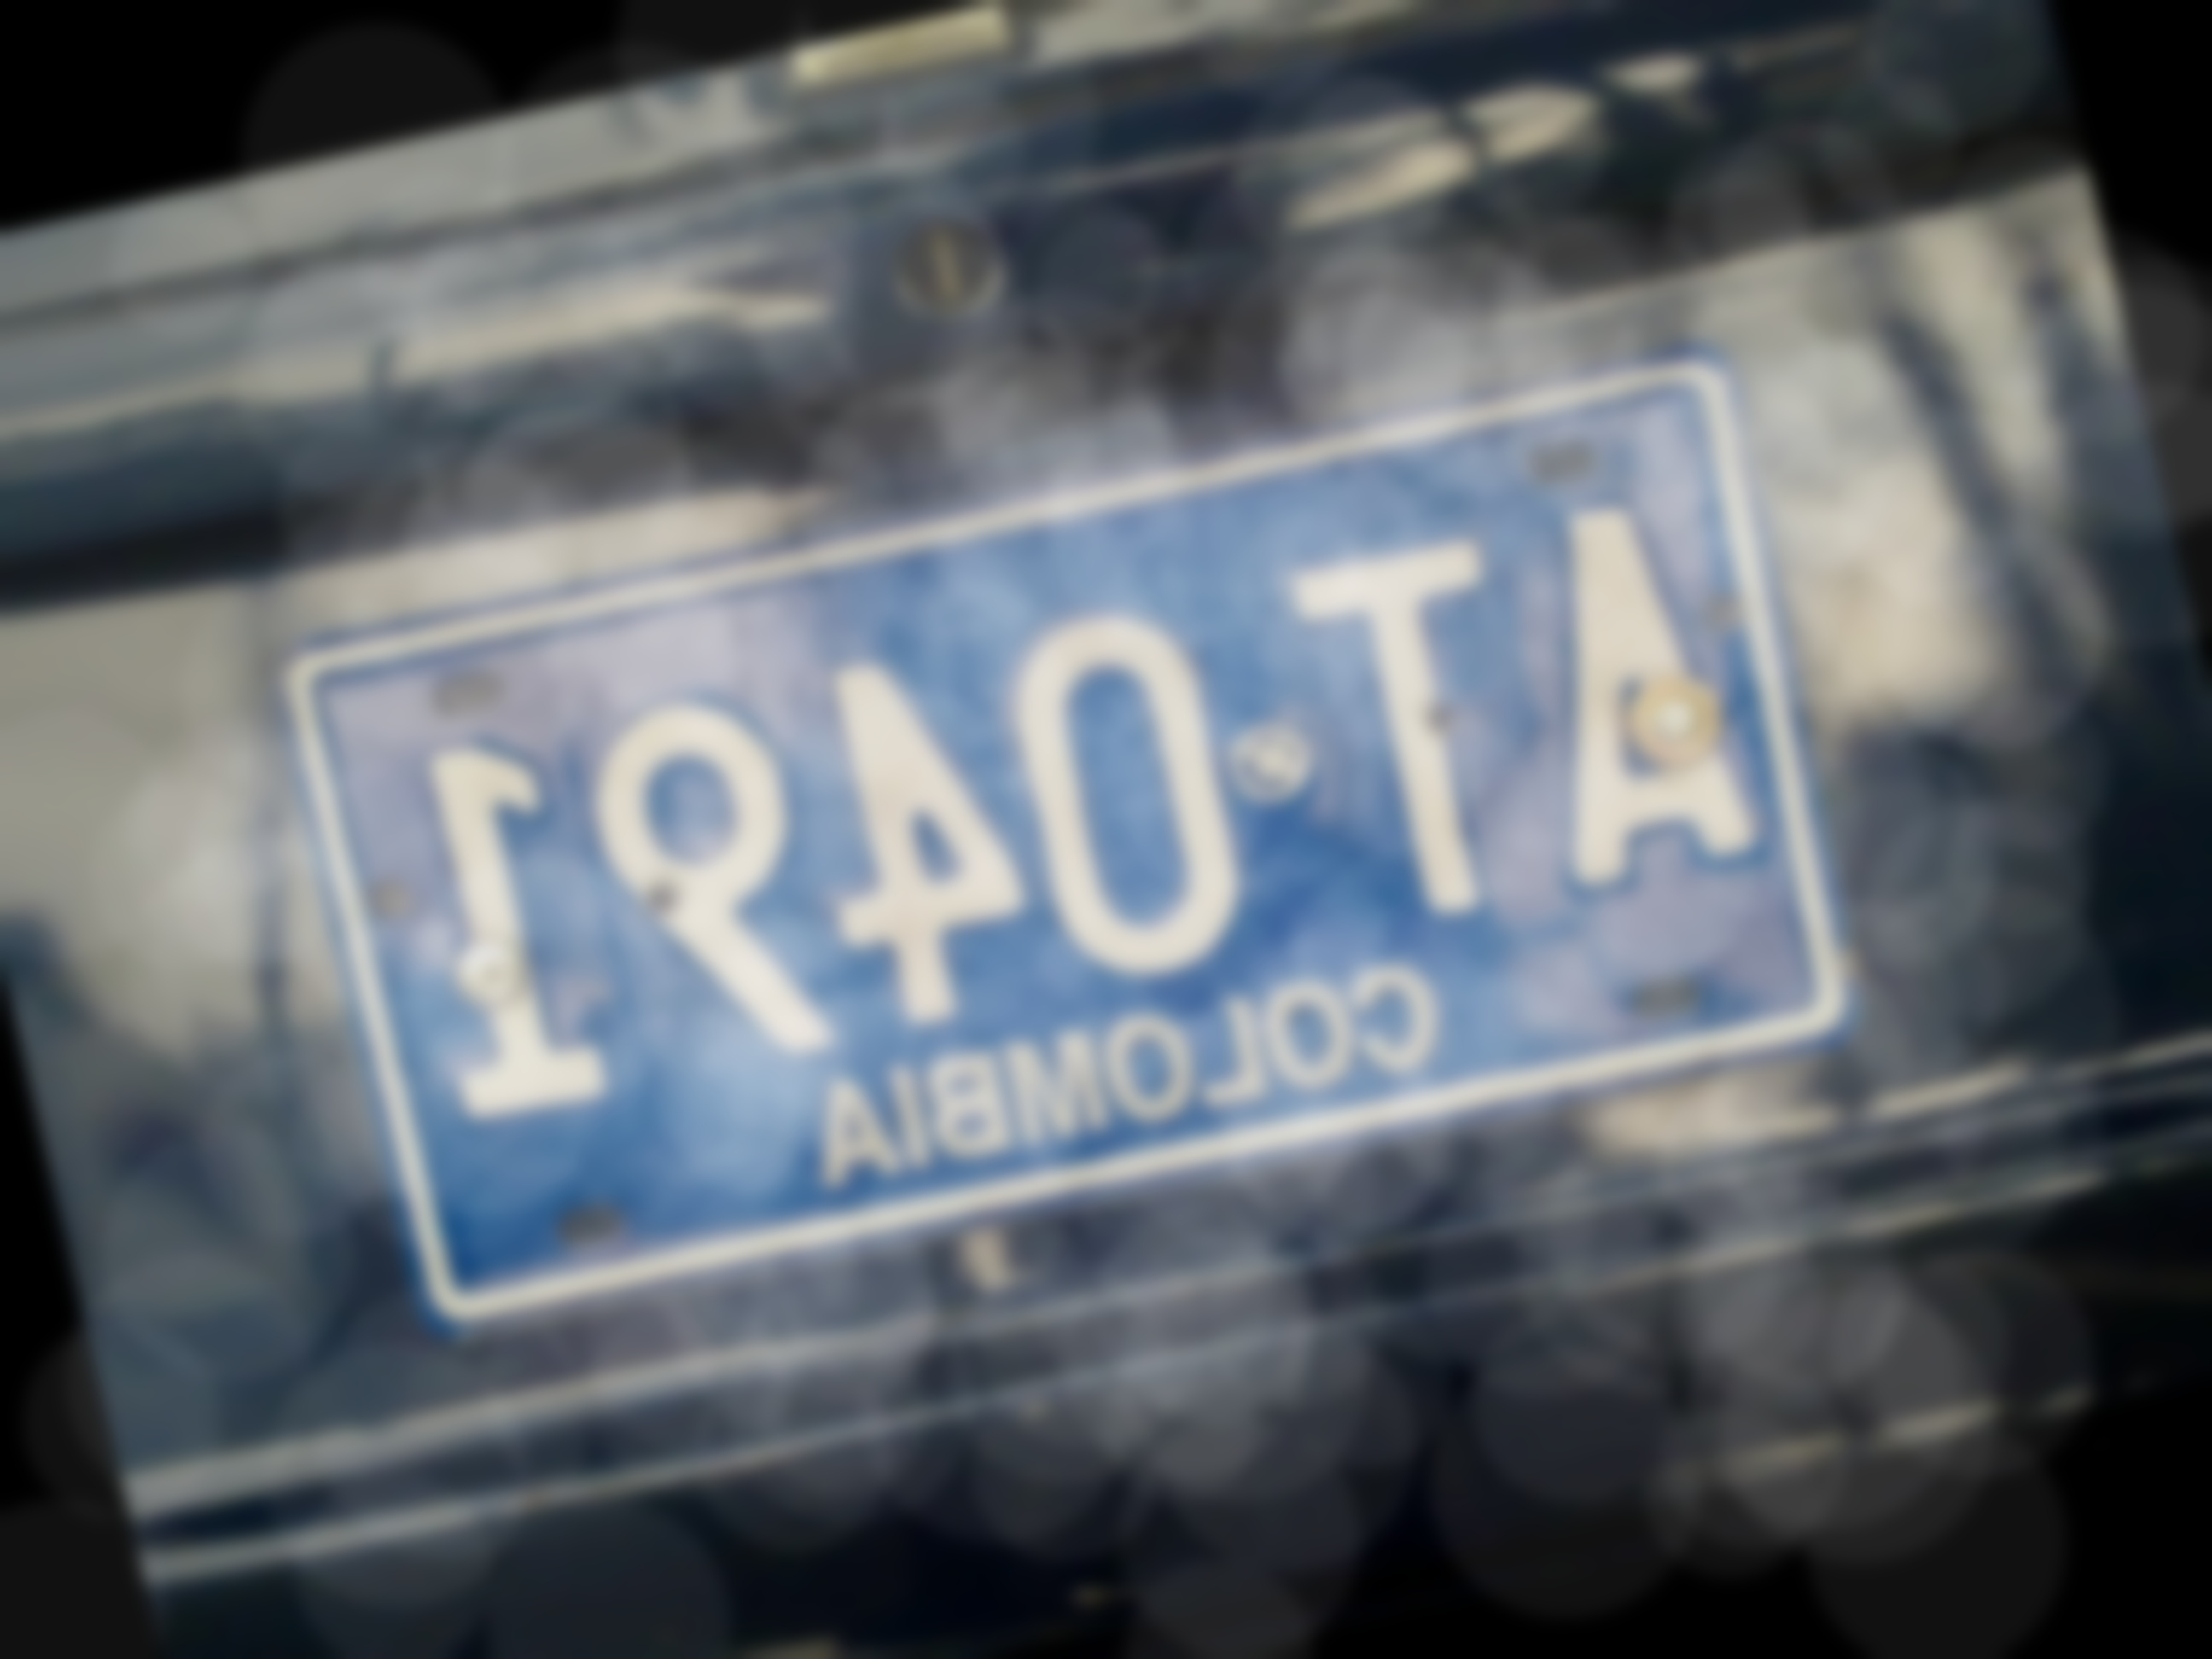placas: (259, 311, 1891, 1385)
